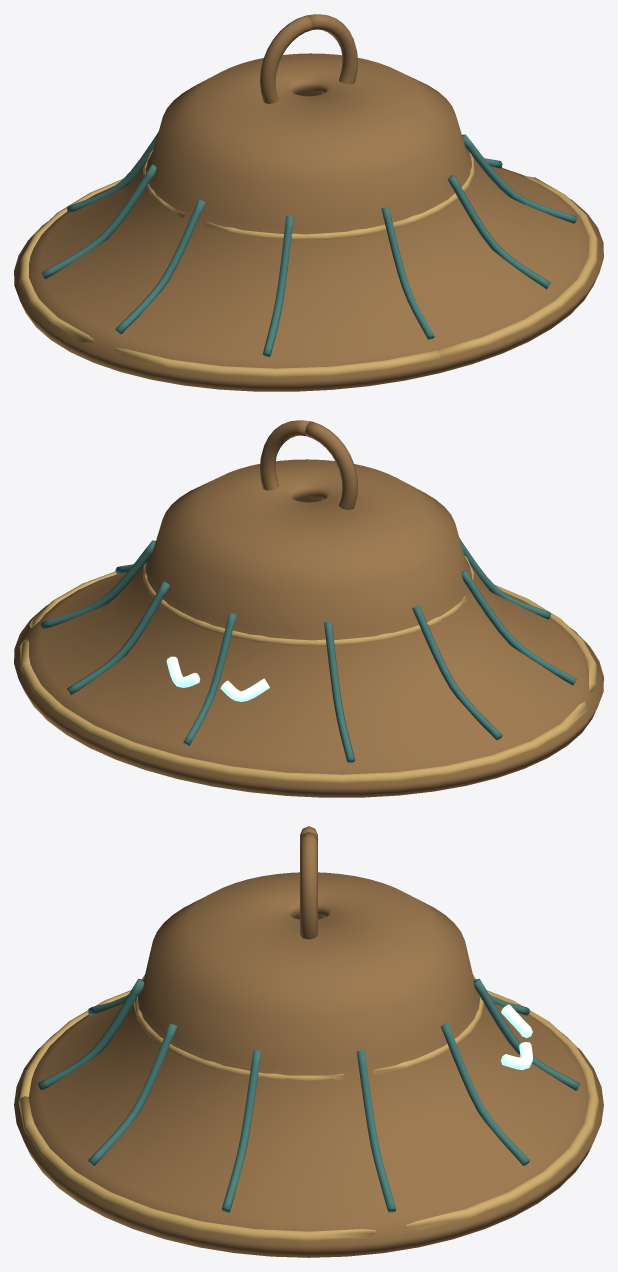
File: hanging_bell.glb
3 views of the same model, one above another, from view 1: azimuth 30°, elevation 25°; view 2: azimuth 150°, elevation 25°; view 3: azimuth 270°, elevation 25° (orthographic). The views are drawn at different scales.
Visible parts, largest first — view 1: Body__bronze, Body__gold, Body__patina; view 2: Body__bronze, Body__gold, Body__patina, Body__soul; view 3: Body__bronze, Body__gold, Body__patina, Body__soul.
Boxes of the visible parts, <box> form: Body__bronze: <box>14,14,603,391</box>; Body__gold: <box>19,149,598,377</box>; Body__patina: <box>41,132,576,357</box>; Body__bronze: <box>14,420,603,797</box>; Body__gold: <box>19,555,598,783</box>; Body__patina: <box>41,538,576,763</box>; Body__soul: <box>166,656,269,701</box>; Body__bronze: <box>14,826,603,1257</box>; Body__gold: <box>18,975,599,1240</box>; Body__patina: <box>38,978,579,1212</box>; Body__soul: <box>501,1004,532,1069</box>.
Bounding box in the file's own units: 1.71 × 1.14 × 1.51.
